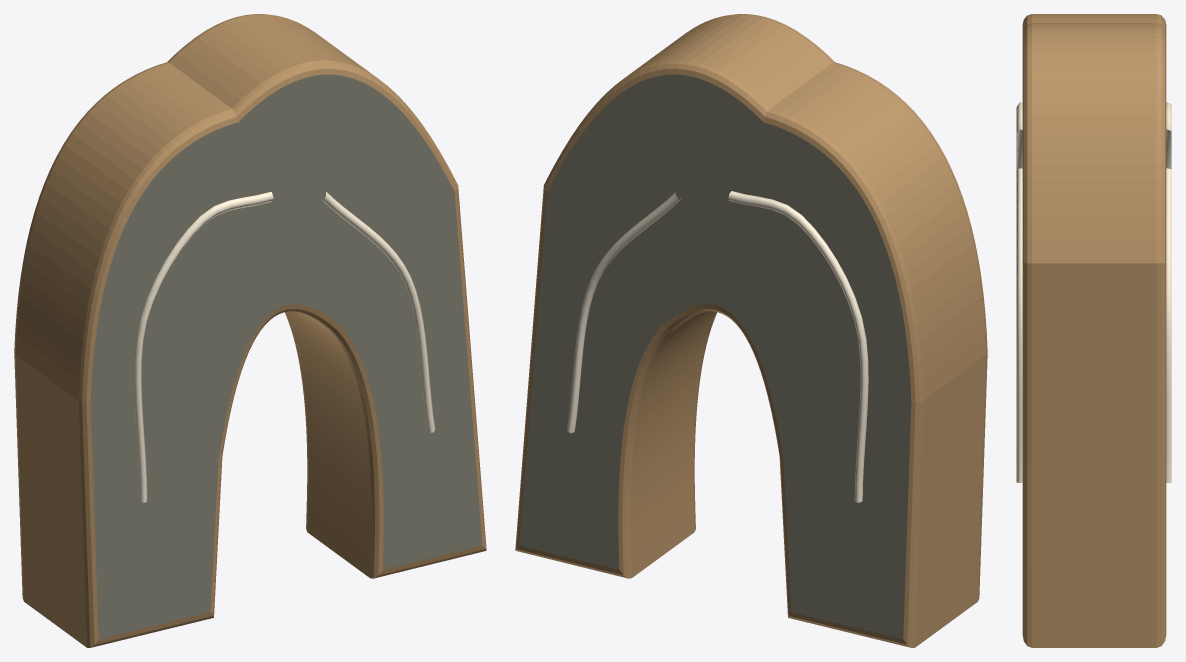
File: meeple-7.glb
The picture shows the model from 3 angles, left to right: view 1: azimuth 30°, elevation 25°; view 2: azimuth 150°, elevation 25°; view 3: azimuth 270°, elevation 25°; orthographic projection.
Visible parts, largest first — view 1: meeple-7-코끼리바위; view 2: meeple-7-코끼리바위; view 3: meeple-7-코끼리바위.
Boxes of the visible parts, x1,y1,x2,y2 form: meeple-7-코끼리바위: (14, 14, 486, 647); meeple-7-코끼리바위: (515, 14, 987, 647); meeple-7-코끼리바위: (1016, 14, 1171, 647).
Bounding box in the file's own units: 0.024 × 0.03 × 0.008.
